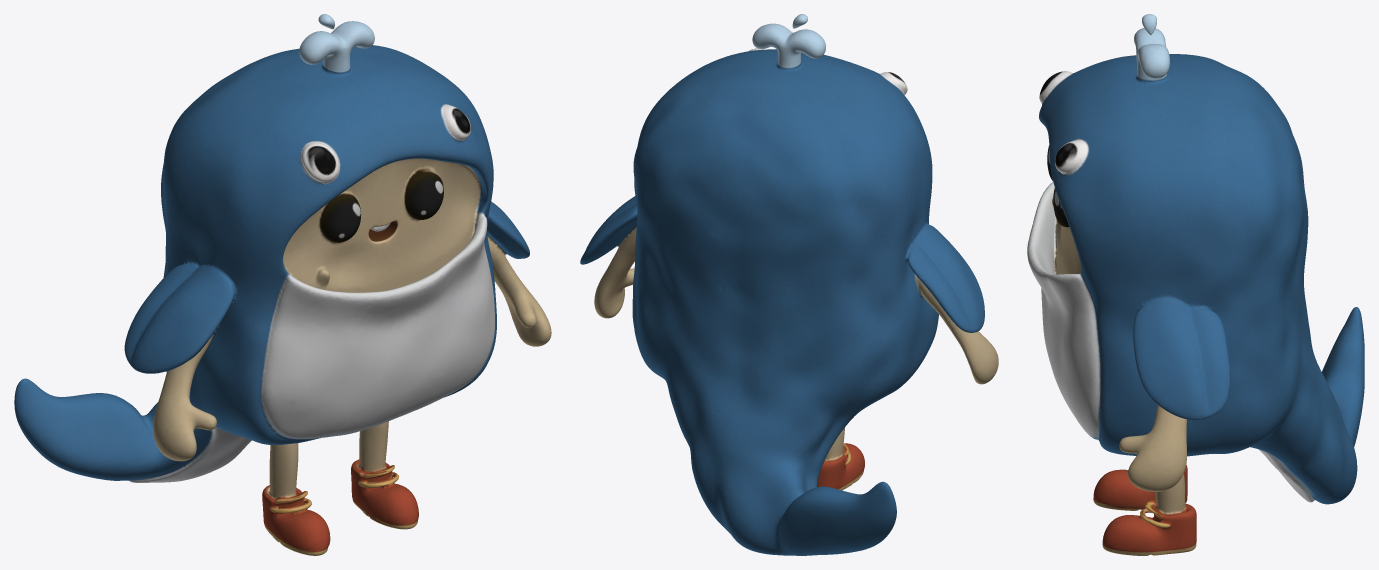
The model's file is whale-buddy.glb.
The picture shows the model from 3 angles, left to right: view 1: azimuth 30°, elevation 25°; view 2: azimuth 150°, elevation 25°; view 3: azimuth 270°, elevation 25°; orthographic projection. The views are drawn at different scales.
Size of the model in its own units: 1.65 by 1.9 by 1.15.
Materials: 1 (1 with a texture image).
